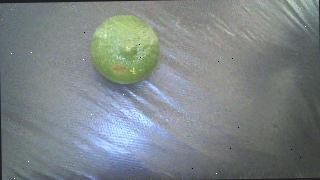DESECHO: (89, 14, 160, 84)
